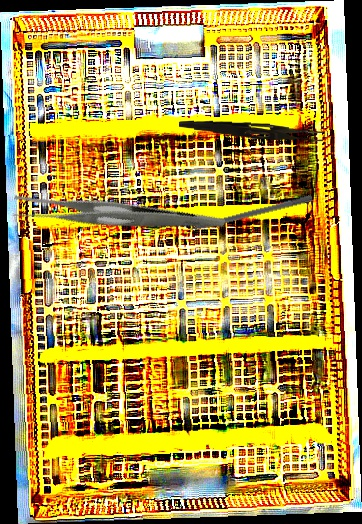Dressing Forceps: (7, 140, 226, 294), (178, 118, 324, 143)
Pusher: (172, 193, 313, 237)
